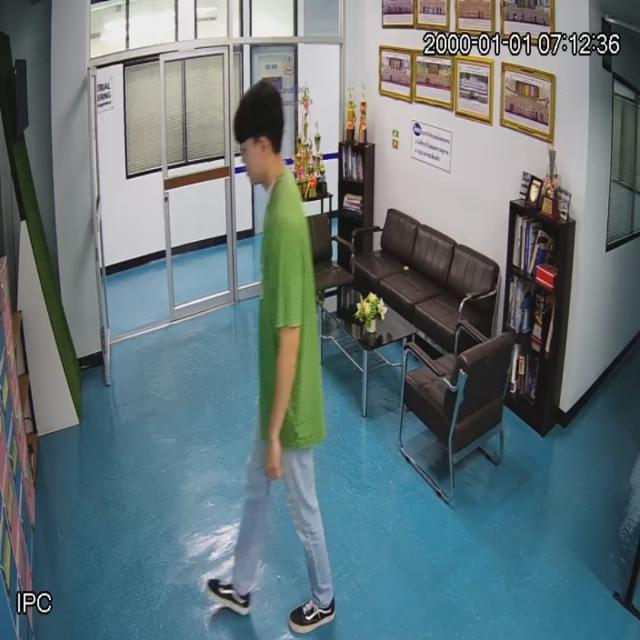normal: (213, 66, 338, 629)
